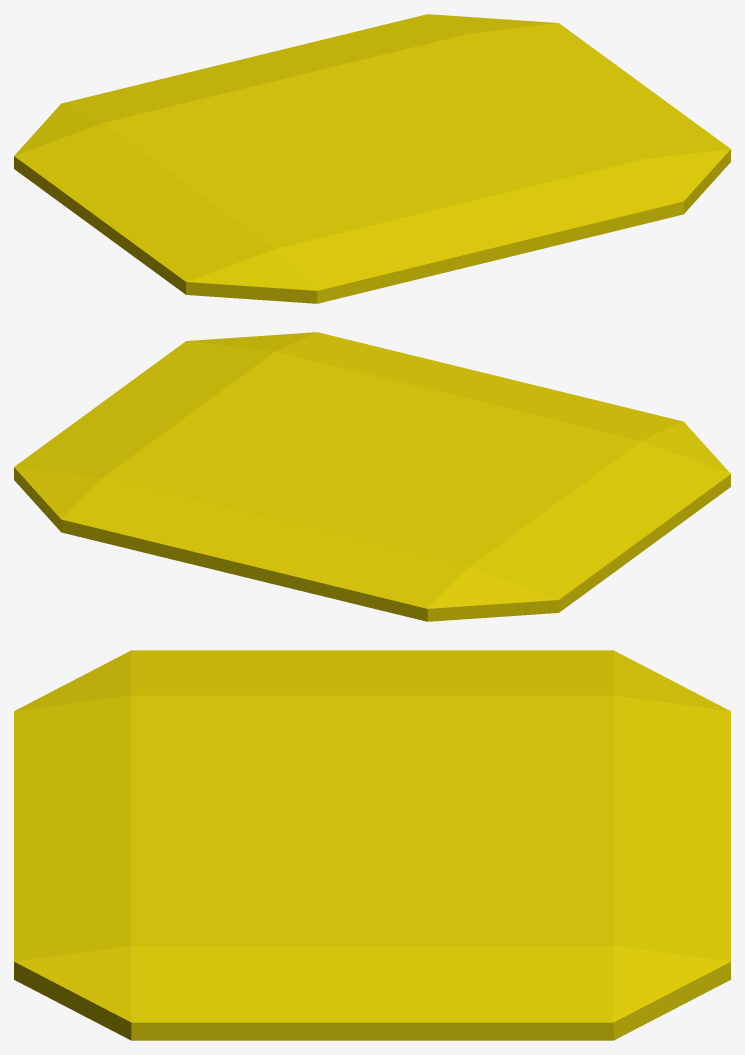
File: queso.fbx
3 views of the same model, one above another, from view 1: azimuth 30°, elevation 25°; view 2: azimuth 150°, elevation 25°; view 3: azimuth 270°, elevation 25° (orthographic). The views are drawn at different scales.
Visible parts, largest first — view 1: Queso; view 2: Queso; view 3: Queso.
Part boxes in pixels (box(x1,y1,x2,y2)): Queso: box(14, 14, 730, 303); Queso: box(14, 332, 730, 621); Queso: box(14, 650, 730, 1040).
Bounding box in the file's own units: 2.05 × 0.1434 × 1.66.
